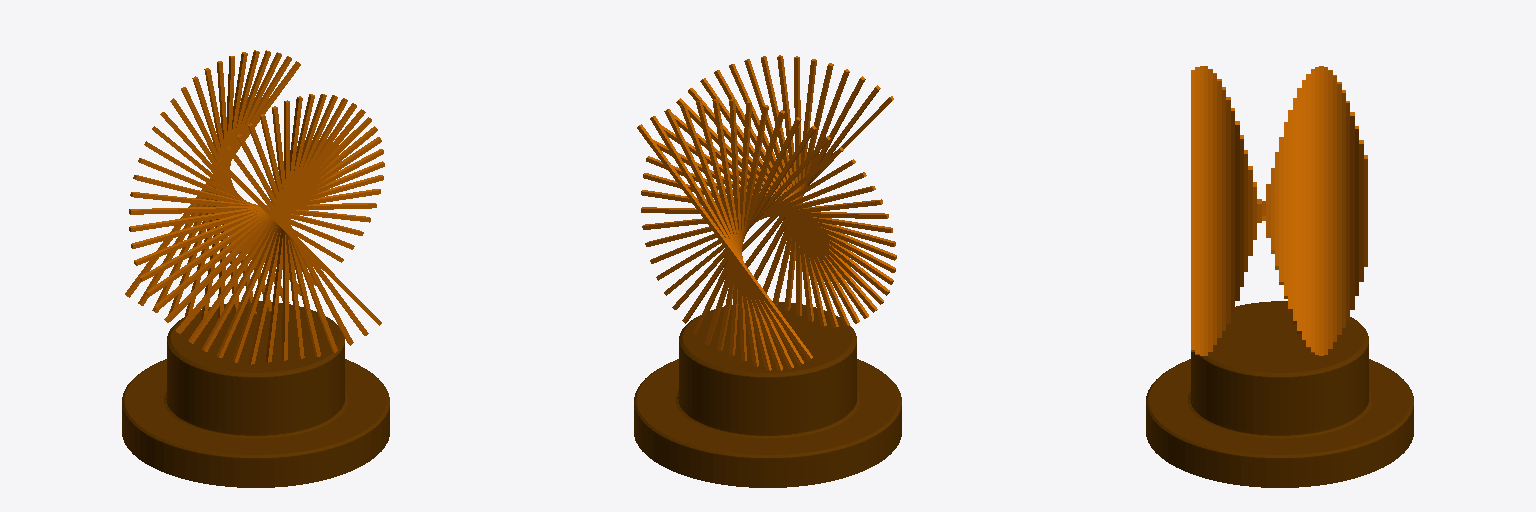
File: tenerife_award.obj
3 renders of one model, left to right at view 1: azimuth 30°, elevation 25°; view 2: azimuth 150°, elevation 25°; view 3: azimuth 270°, elevation 25°, orthographic.
Parts seen in each view (by area): view 1: Cube, Cylinder; view 2: Cube, Cylinder; view 3: Cube, Cylinder.
Boxes of the visible parts, x1=… form: Cube: x1=125, y1=50, x2=384, y2=364; Cylinder: x1=122, y1=301, x2=389, y2=487; Cube: x1=637, y1=55, x2=896, y2=370; Cylinder: x1=634, y1=301, x2=901, y2=487; Cube: x1=1191, y1=66, x2=1367, y2=355; Cylinder: x1=1146, y1=301, x2=1413, y2=487.
Bounding box in the file's own units: 7.45 × 10 × 6.9.